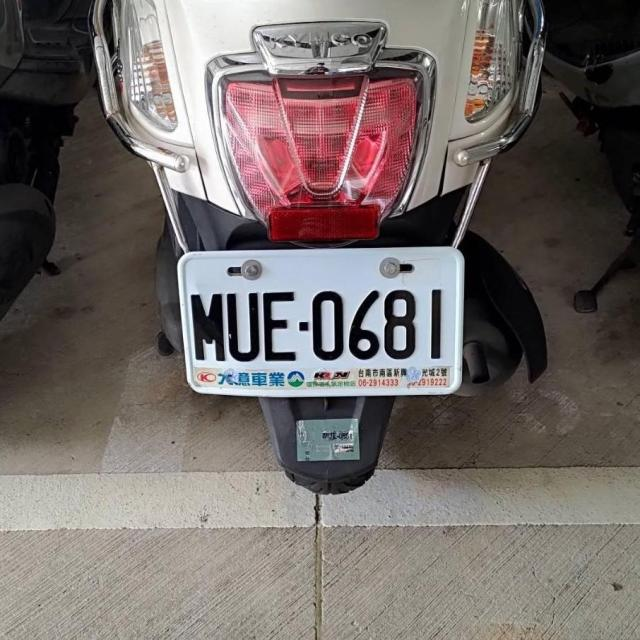W: (172, 240, 469, 401)
